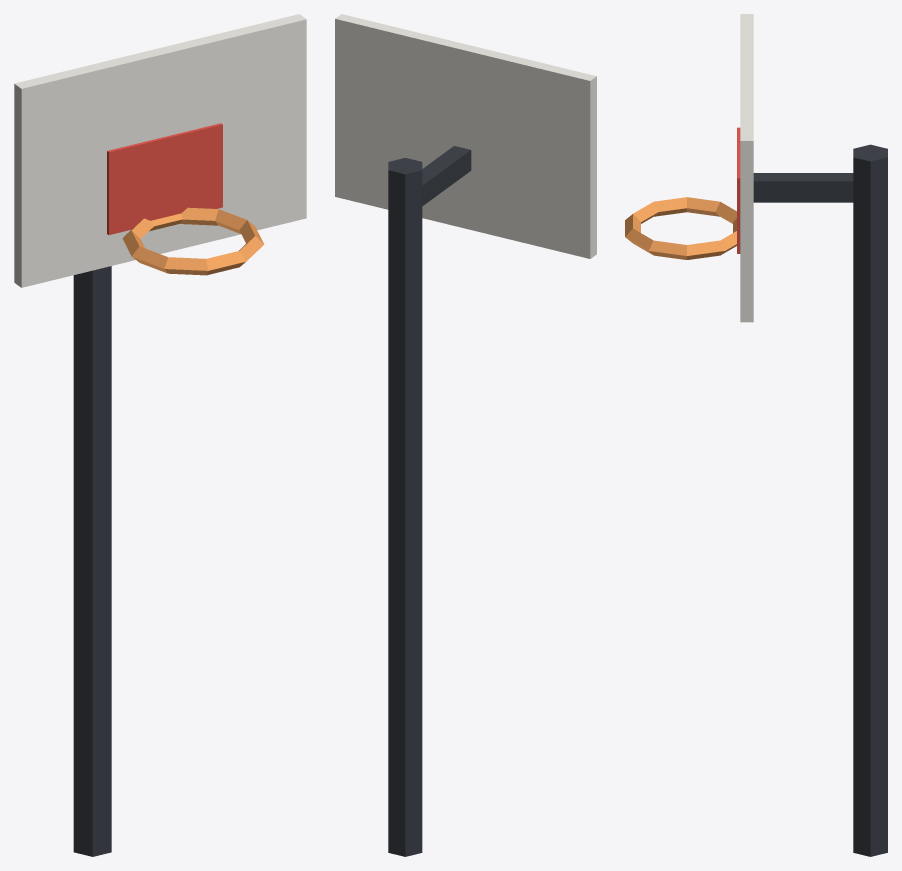
Rendered from P_Hoop.fbx.
3 renders of one model, left to right at view 1: azimuth 30°, elevation 25°; view 2: azimuth 150°, elevation 25°; view 3: azimuth 270°, elevation 25°, orthographic. The views are drawn at different scales.
Parts seen in each view (by area): view 1: P_Hoop; view 2: P_Hoop; view 3: P_Hoop.
Part boxes in pixels (bbox=[...]): P_Hoop: bbox=[14, 14, 306, 856]; P_Hoop: bbox=[335, 14, 596, 856]; P_Hoop: bbox=[625, 14, 887, 856].
Bounding box in the file's own units: 0.9 × 2.55 × 0.7874.
